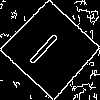I: (25, 24, 68, 67)
